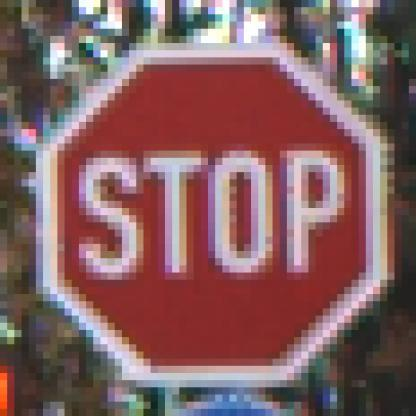Stop: (48, 47, 380, 384)
